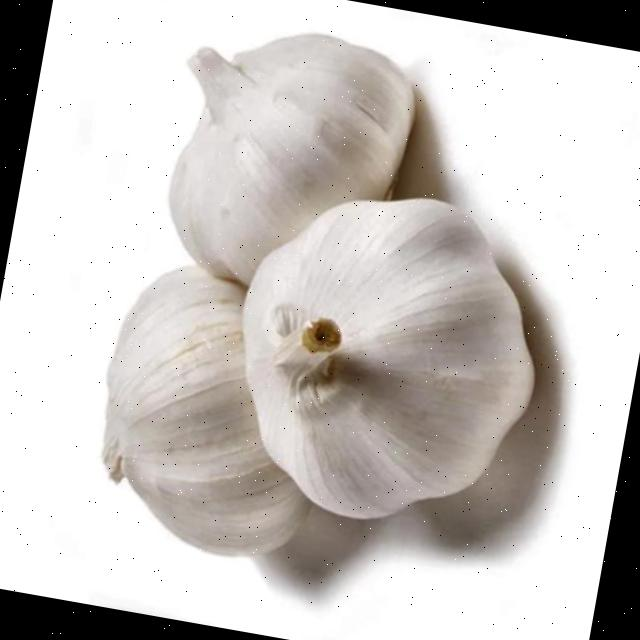garlic: (241, 198, 532, 517), (169, 34, 413, 284), (103, 266, 306, 555)
